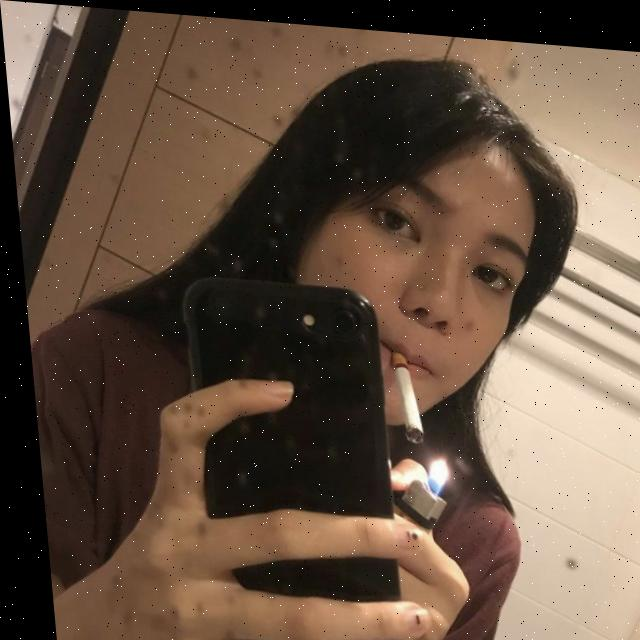cigarette: (384, 346, 417, 438)
